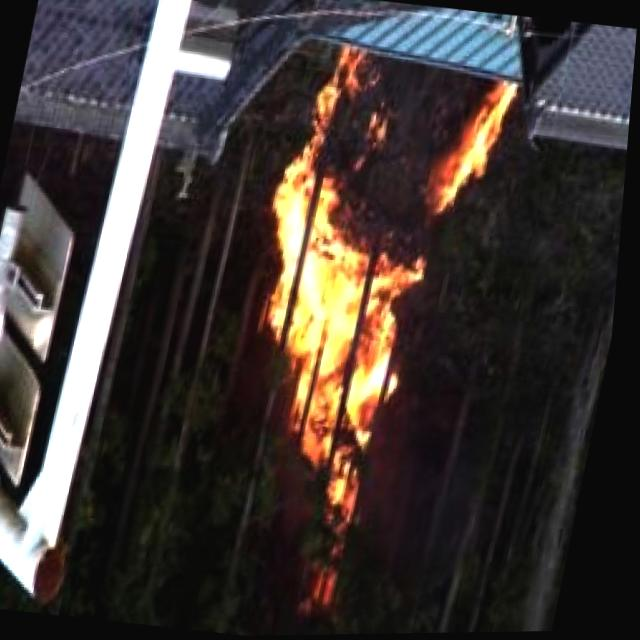Fire: (218, 35, 535, 551)
